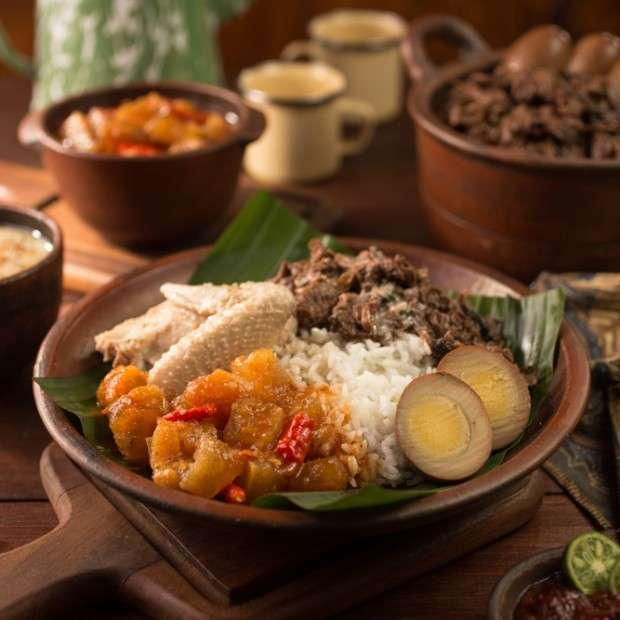gudeg: (94, 246, 534, 505)
